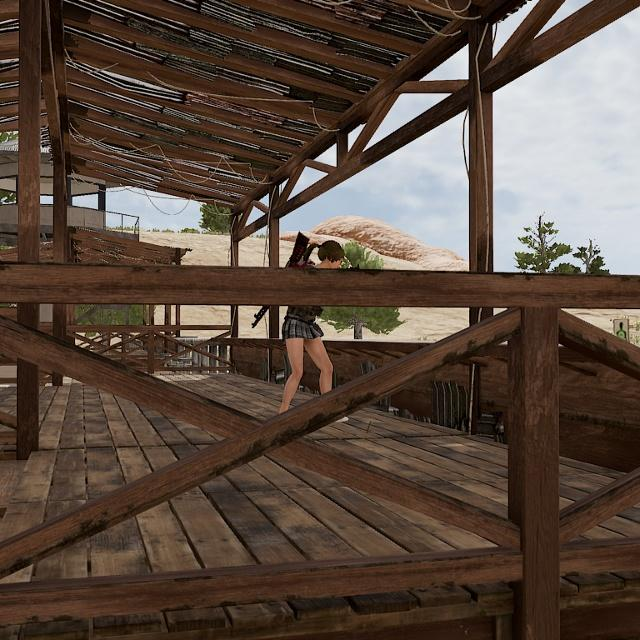head: (318, 236, 346, 270)
people: (278, 234, 355, 423)
